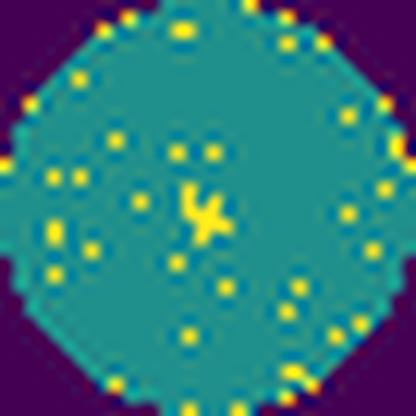Center: (182, 181, 235, 246)
